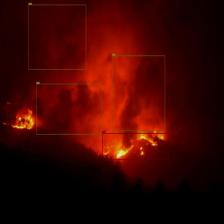fire: (102, 133, 169, 160), (7, 104, 35, 130)
smoke: (112, 55, 165, 131), (28, 4, 86, 70), (36, 84, 102, 134)
